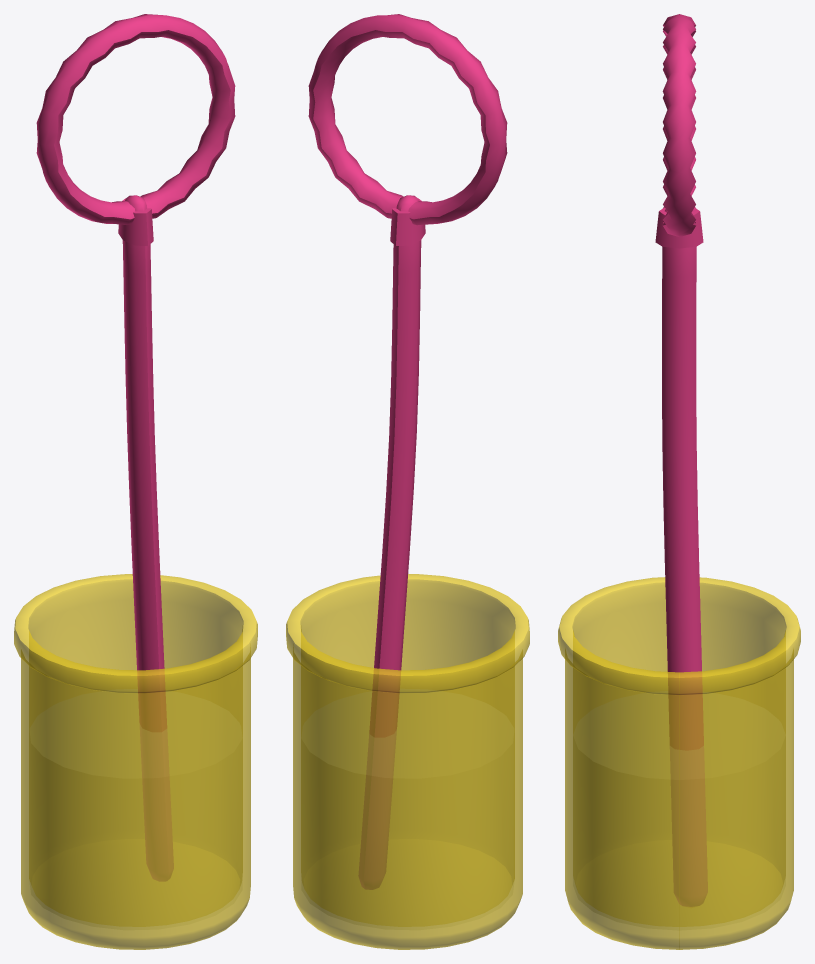
Rendered from bubblewand.glb.
The picture shows the model from 3 angles, left to right: view 1: azimuth 30°, elevation 25°; view 2: azimuth 150°, elevation 25°; view 3: azimuth 270°, elevation 25°; orthographic projection.
Parts seen in each view (by area): view 1: pot, wand; view 2: pot, wand; view 3: pot, wand.
Boxes of the visible parts, x1,y1,x2,y2 form: pot: (14,574,257,949); wand: (36,14,235,880); pot: (286,574,529,949); wand: (308,14,507,889); pot: (558,577,800,949); wand: (655,14,707,906).
Bounding box in the file's own units: 0.0424 × 0.17 × 0.0424.
